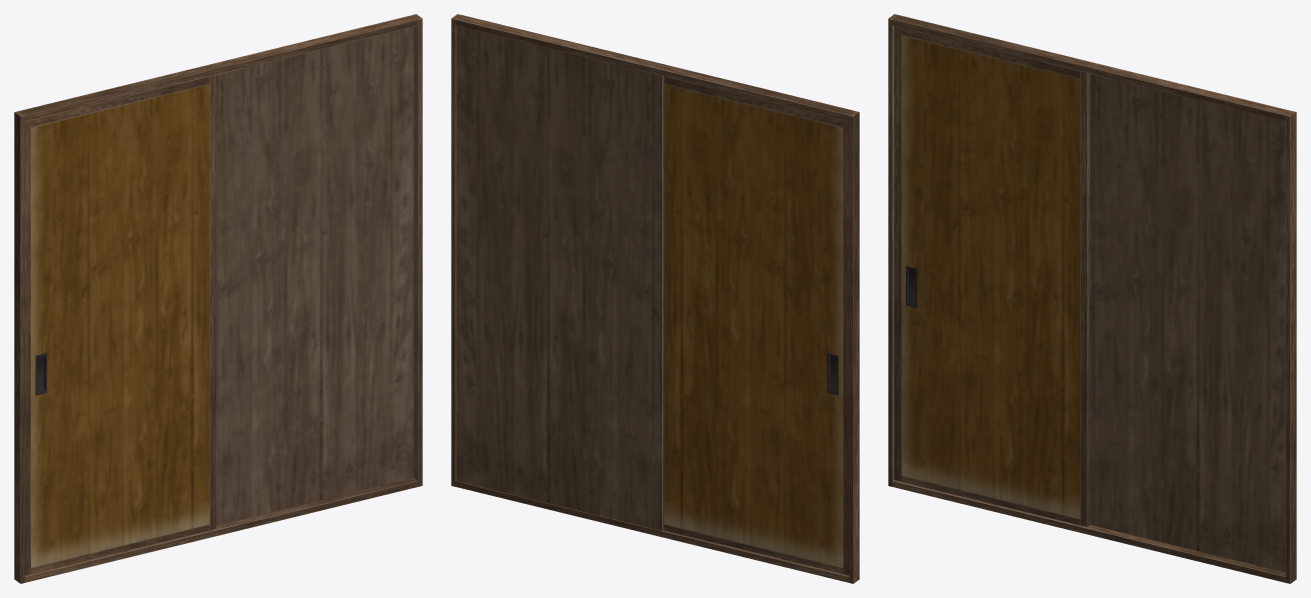
Rendered from roomdoor01a.fbx.
The picture shows the model from 3 angles, left to right: view 1: azimuth 30°, elevation 25°; view 2: azimuth 150°, elevation 25°; view 3: azimuth 330°, elevation 25°; orthographic projection.
Parts seen in each view (by area): view 1: roomdoor01a; view 2: roomdoor01a; view 3: roomdoor01a.
Boxes of the visible parts, x1,y1,x2,y2 form: roomdoor01a: (14,14,422,583); roomdoor01a: (451,14,859,583); roomdoor01a: (888,14,1296,583).
Bounding box in the file's own units: 187 × 207 × 5.22.
